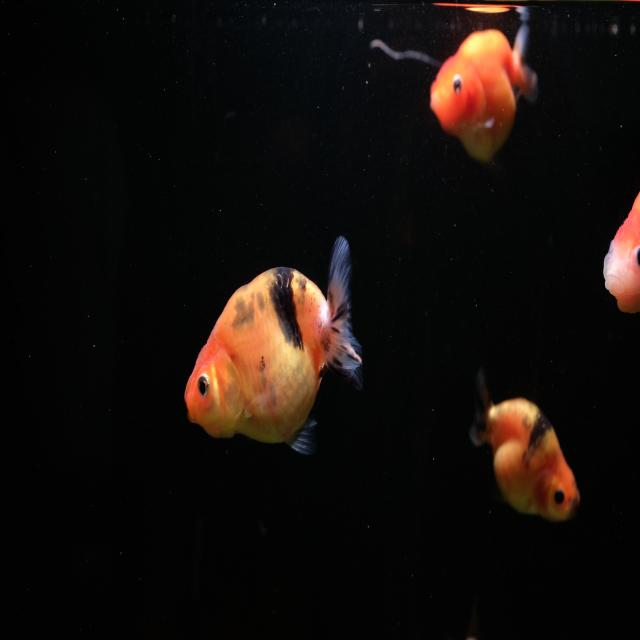Goldfish: (184, 234, 363, 456), (468, 369, 580, 523), (429, 23, 538, 163), (602, 190, 640, 314)
